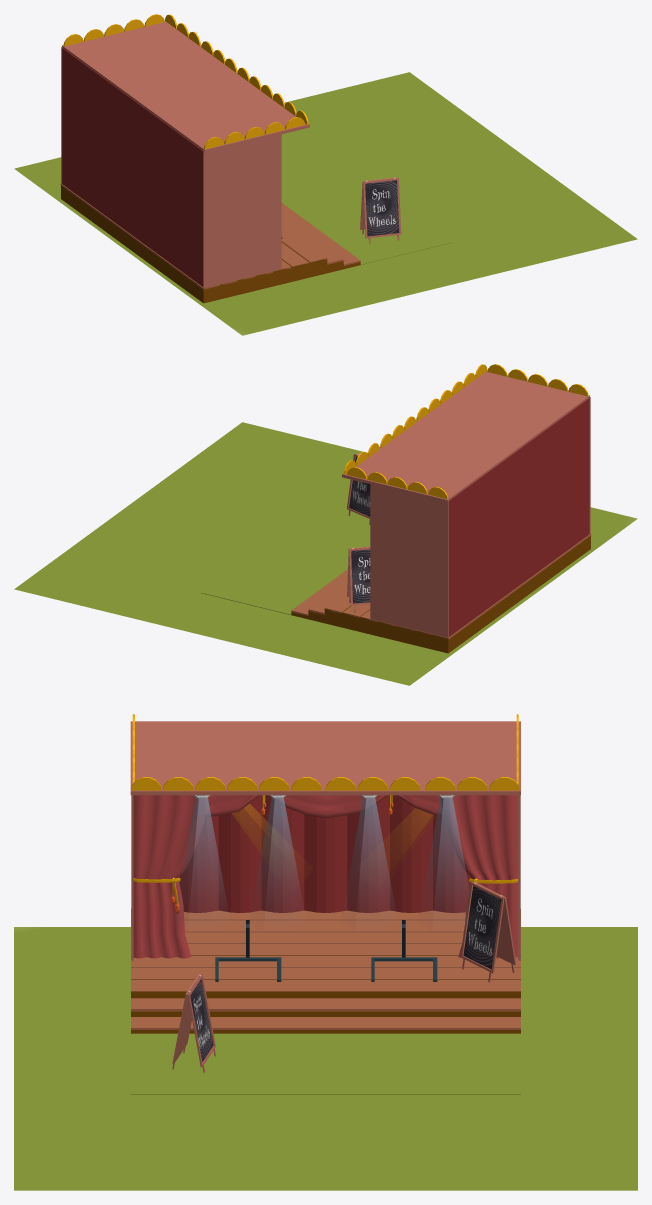
Rendered from Theatre.glb.
3 views of the same model, one above another, from view 1: azimuth 30°, elevation 25°; view 2: azimuth 150°, elevation 25°; view 3: azimuth 270°, elevation 25° (orthographic). The views are drawn at different scales.
Visible parts, largest first — view 1: Plane, Cube.001, Cube, Cube.006, Cube.008, Cube.003; view 2: Plane, Cube.001, Cube, Cube.006, Cube.008, Cube.007, Cube.003; view 3: Plane, Cube, Cube.001, Cube.006, Cylinder.007, Cube.002, Cube.005, Cube.004, Cube.007, Plane.002, Cube.003, Cube.008 (+4 smaller).
Part boxes in pixels (<box>): Plane: <box>14,72,637,335</box>; Cube.001: <box>62,48,202,286</box>; Cube: <box>60,138,450,303</box>; Cube.006: <box>62,20,309,152</box>; Cube.008: <box>61,47,281,287</box>; Cube.003: <box>360,177,401,243</box>; Plane: <box>14,422,637,685</box>; Cube.001: <box>449,398,589,636</box>; Cube: <box>201,488,591,653</box>; Cube.006: <box>342,370,589,502</box>; Cube.008: <box>370,397,590,637</box>; Cube.007: <box>347,546,370,612</box>; Cube.003: <box>347,453,370,524</box>; Plane: <box>14,927,637,1190</box>; Cube: <box>131,909,520,1094</box>; Cube.001: <box>179,795,471,912</box>; Cube.006: <box>130,721,520,795</box>; Cylinder.007: <box>179,797,468,896</box>; Cube.002: <box>441,795,517,958</box>; Cube.005: <box>133,795,209,879</box>; Cube.004: <box>133,878,191,958</box>; Cube.007: <box>460,881,516,982</box>; Plane.002: <box>205,795,443,817</box>; Cube.003: <box>172,974,215,1072</box>; Cube.008: <box>131,795,520,960</box>.
Size of what is drawn, in the model's own units: 16 by 6.35 by 16.
Materials: 3 (3 with a texture image).
